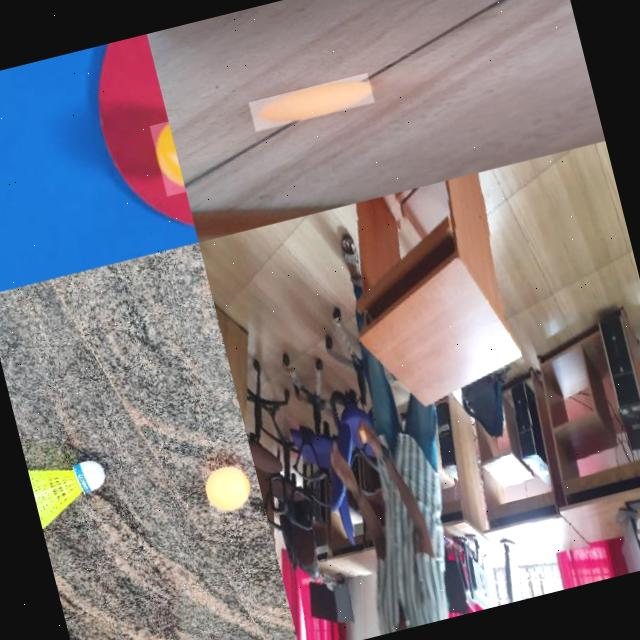ping-pong-ball: (248, 72, 376, 132), (200, 462, 252, 516), (149, 120, 184, 196), (359, 428, 367, 443)
